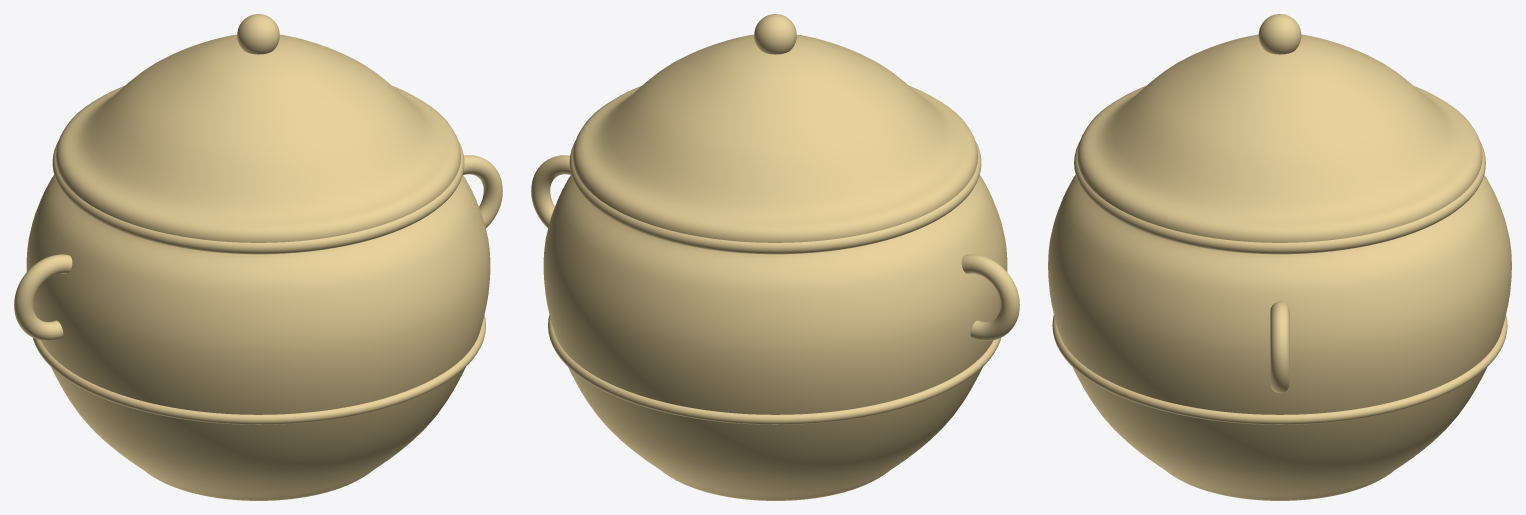
Rendered from handi.glb.
3 views of the same model, side by side, from view 1: azimuth 30°, elevation 25°; view 2: azimuth 150°, elevation 25°; view 3: azimuth 270°, elevation 25° (orthographic).
Visible parts, largest first — view 1: Pot, Lid; view 2: Pot, Lid; view 3: Pot, Lid.
Boxes of the visible parts, <box> form: Pot: <box>14,142,502,500</box>; Lid: <box>56,14,460,242</box>; Pot: <box>531,142,1019,500</box>; Lid: <box>573,14,977,242</box>; Pot: <box>1048,142,1511,500</box>; Lid: <box>1077,14,1482,242</box>.
Bounding box in the file's own units: 2.63 × 2.25 × 2.17.
